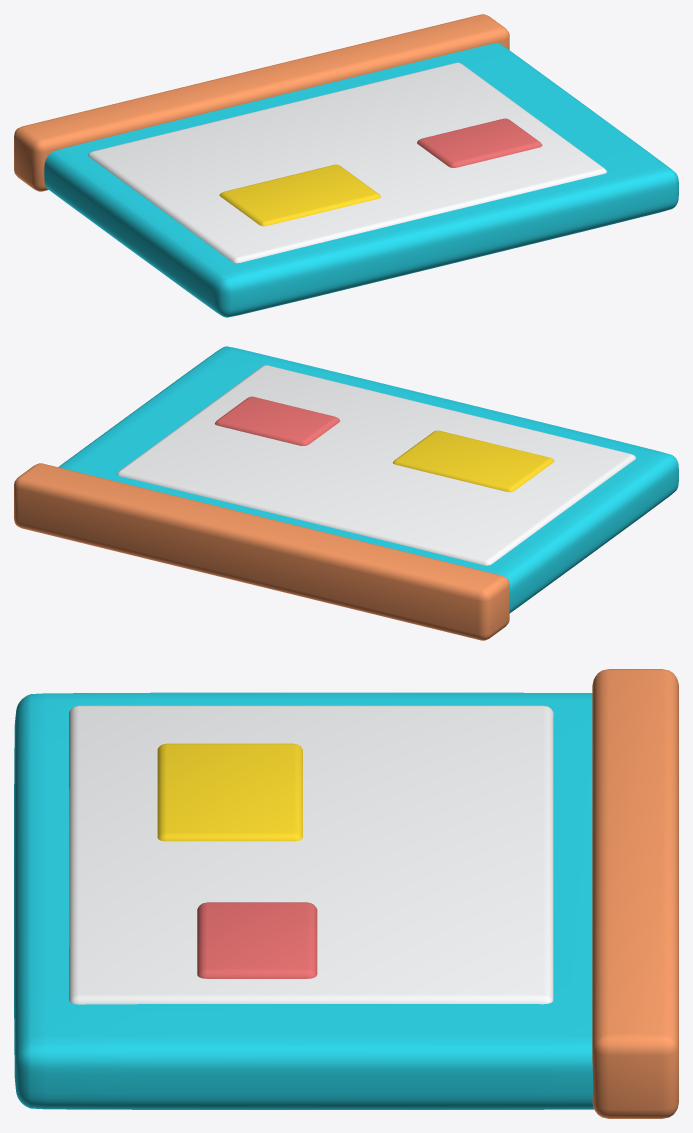
Rendered from SM_DocumentPouch.fbx.
The picture shows the model from 3 angles, top to bottom: view 1: azimuth 30°, elevation 25°; view 2: azimuth 150°, elevation 25°; view 3: azimuth 270°, elevation 25°; orthographic projection. The views are drawn at different scales.
Visible parts, largest first — view 1: SM_DocumentPouch; view 2: SM_DocumentPouch; view 3: SM_DocumentPouch.
Boxes of the visible parts, x1,y1,x2,y2 form: SM_DocumentPouch: [14, 14, 678, 317]; SM_DocumentPouch: [14, 346, 678, 640]; SM_DocumentPouch: [14, 669, 678, 1118].
Size of the model in its own units: 44.55 by 4.66 by 33.21.
